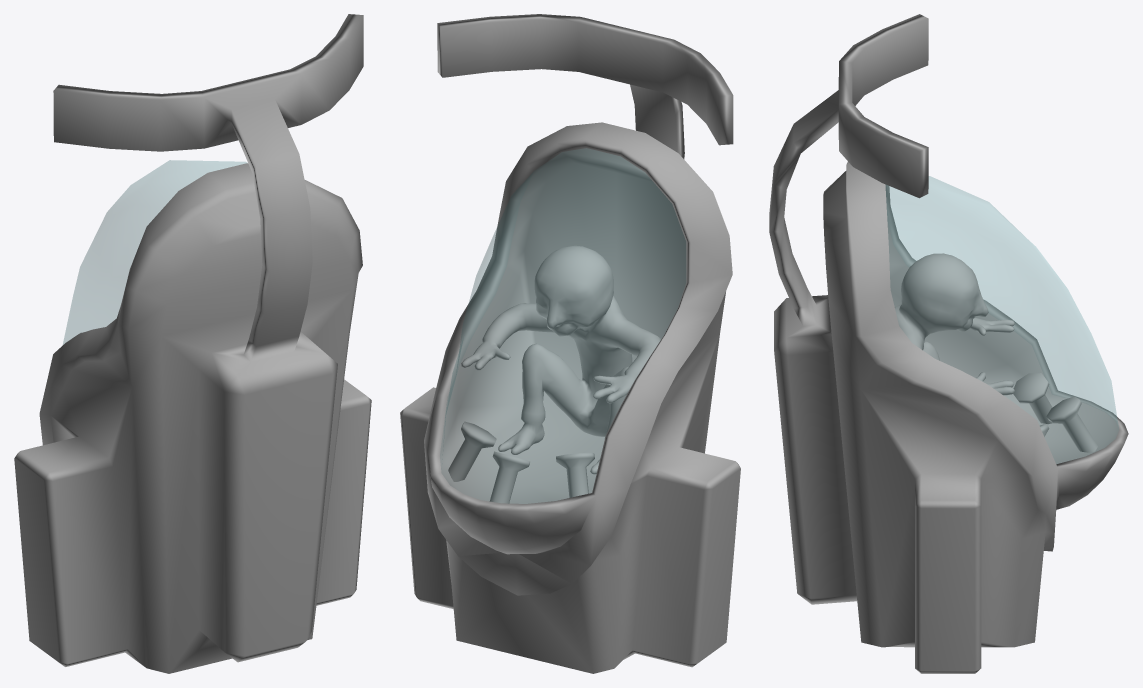
File: JukeBox.fbx
3 renders of one model, left to right at view 1: azimuth 30°, elevation 25°; view 2: azimuth 150°, elevation 25°; view 3: azimuth 270°, elevation 25°, orthographic. The views are drawn at different scales.
Parts seen in each view (by area): view 1: JukeBoxBase, JukeBoxGlass; view 2: JukeBoxBase, JukeBoxGlass, JukeBoxDJ; view 3: JukeBoxBase, JukeBoxGlass, JukeBoxDJ.
Part boxes in pixels (x1,y1,x2,y2): JukeBoxBase: [14, 14, 371, 673]; JukeBoxGlass: [63, 160, 246, 344]; JukeBoxBase: [400, 14, 740, 673]; JukeBoxGlass: [440, 148, 685, 503]; JukeBoxDJ: [461, 245, 660, 474]; JukeBoxBase: [769, 14, 1128, 673]; JukeBoxGlass: [886, 176, 1118, 463]; JukeBoxDJ: [894, 253, 1014, 395].
Bounding box in the file's own units: 1.69 × 2.87 × 1.76.
